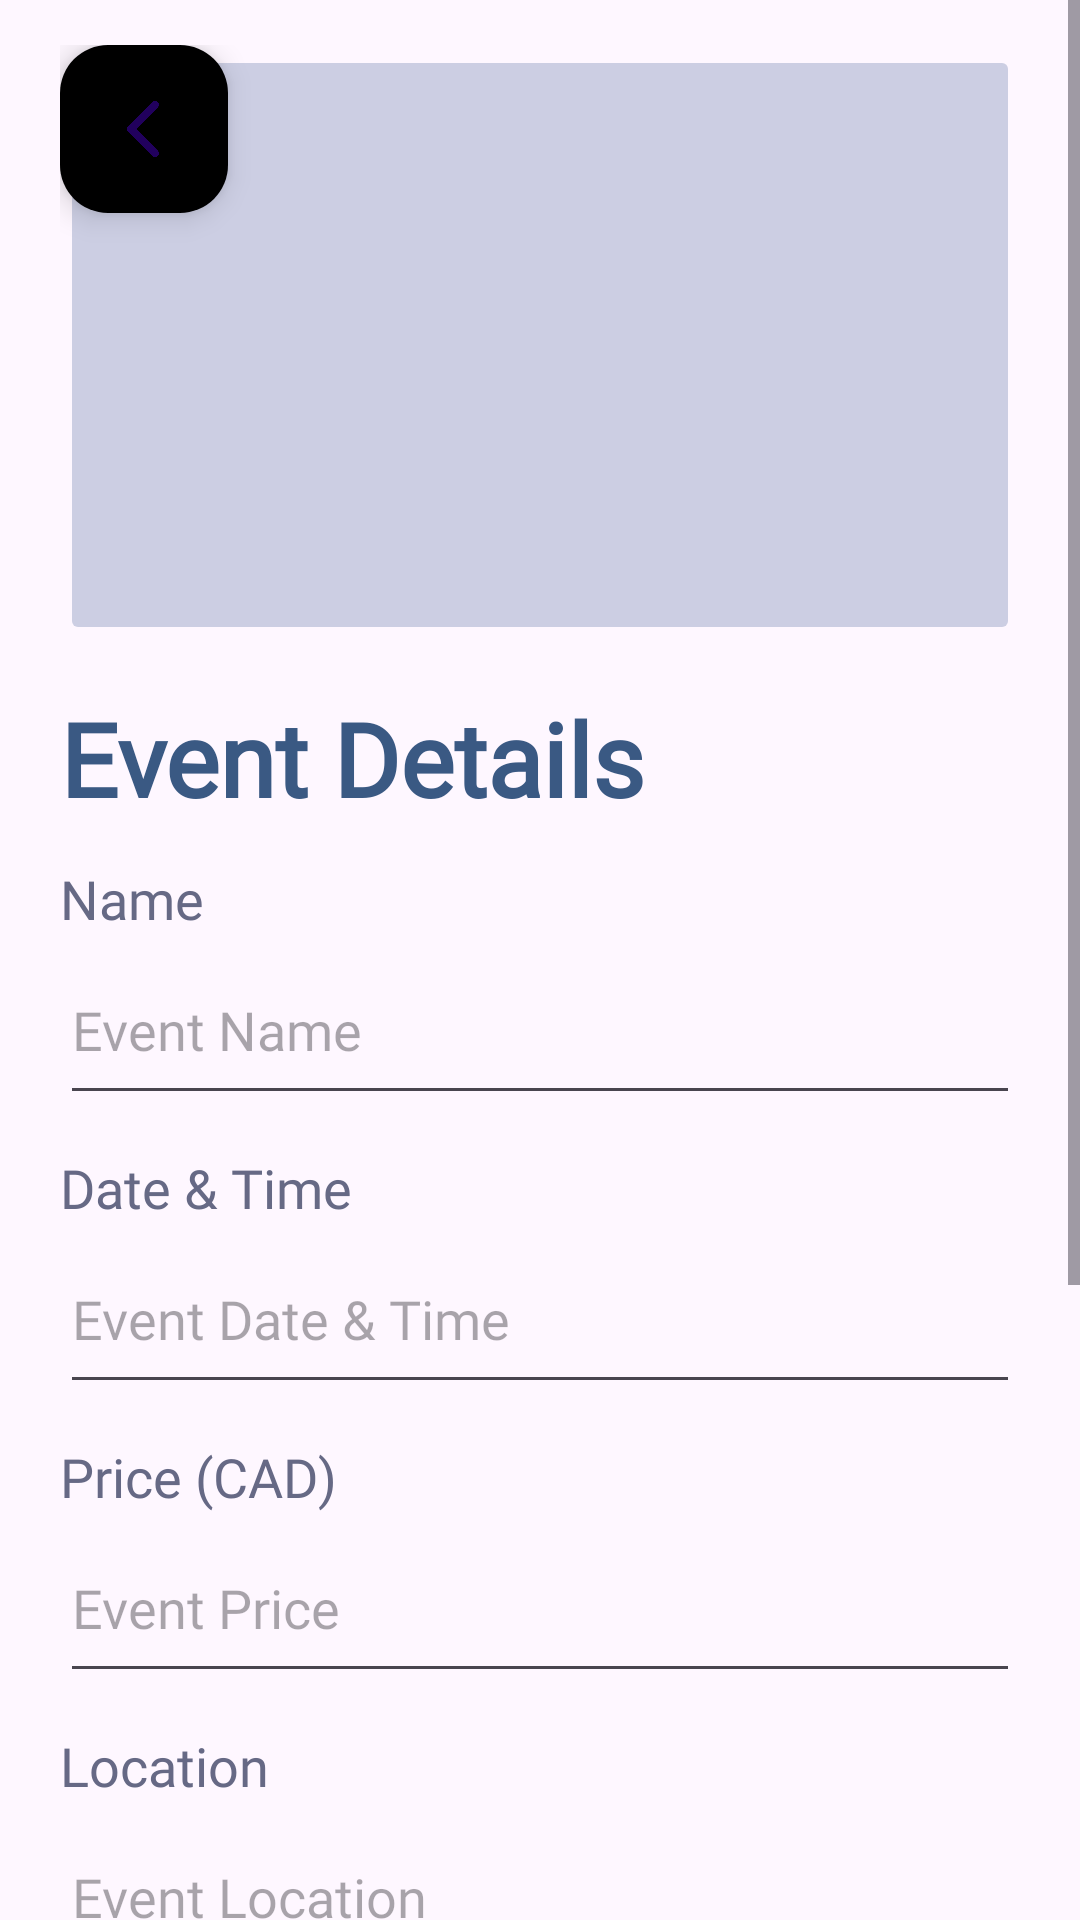

Screen size 1080*1920. Icon name, then its center in pixels as [x,y]:
Back: [144,129]
